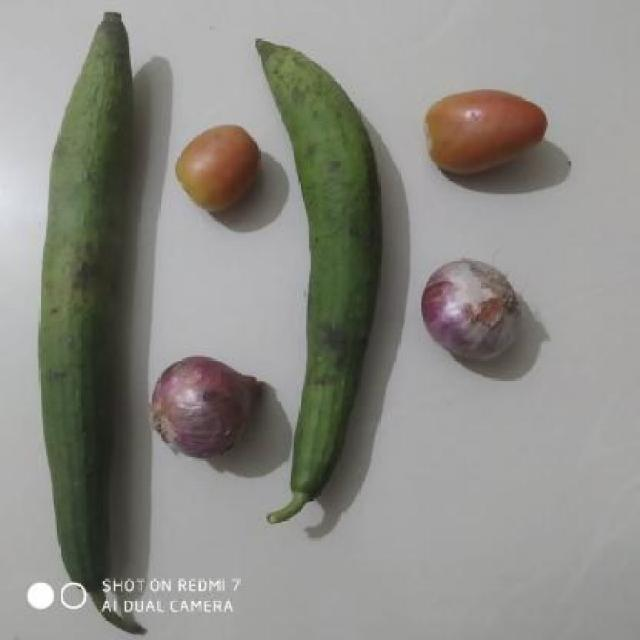Onion: (416, 242, 542, 384), (149, 344, 277, 476)
Sponge Gourd: (0, 11, 154, 640), (251, 28, 403, 534)
Tomato: (418, 76, 554, 192), (161, 106, 274, 228)
